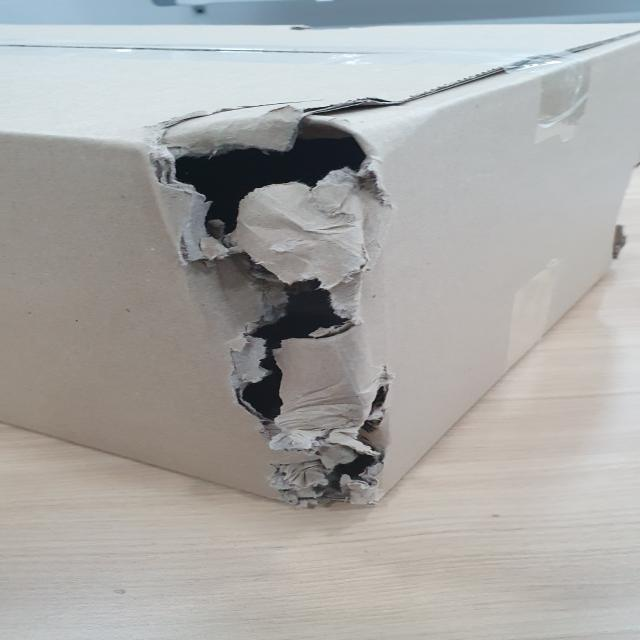hole: (149, 113, 397, 507)
